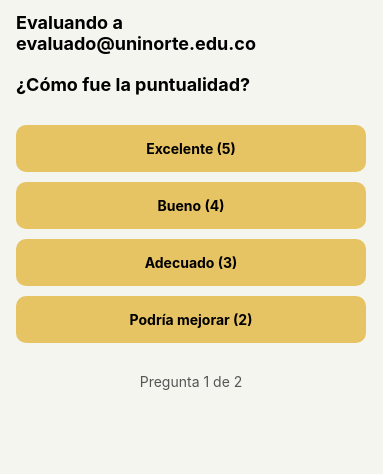
Scenario: ResponderEvaluacionScreen › debería avanzar a la siguiente pregunta al seleccionar una opción
The image size is (383, 474).
Click the text "Excelente (5)".
click(191, 148)  # box top-left (146, 140), bottom-right (236, 157)
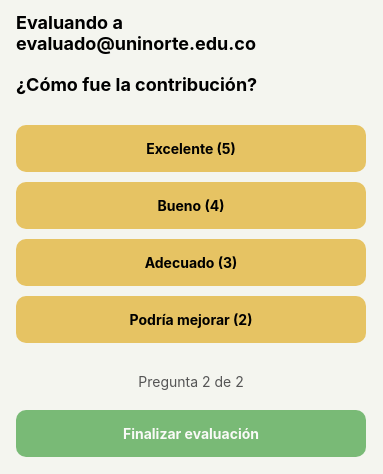
Now the text "¿Cómo fue la contribución?" is shown, box top-left (16, 74), bottom-right (257, 95)
